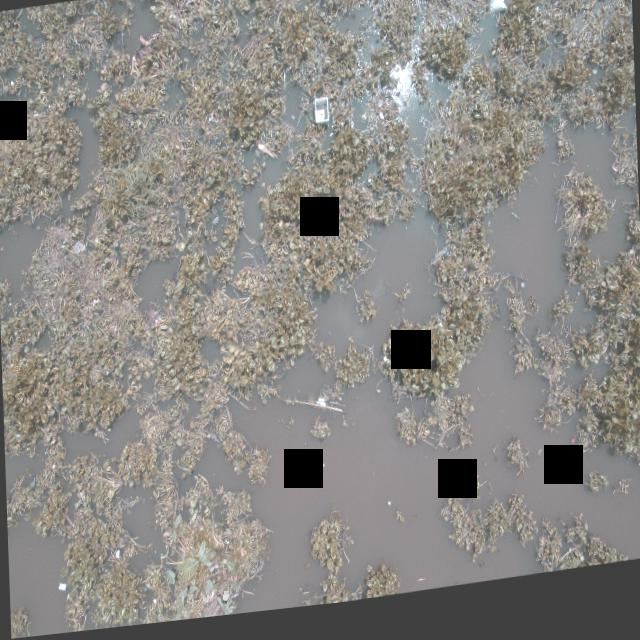plastic: (308, 90, 340, 136), (480, 0, 510, 31), (53, 577, 73, 596), (312, 401, 328, 418), (4, 116, 14, 128), (206, 116, 214, 128), (128, 0, 134, 4)
